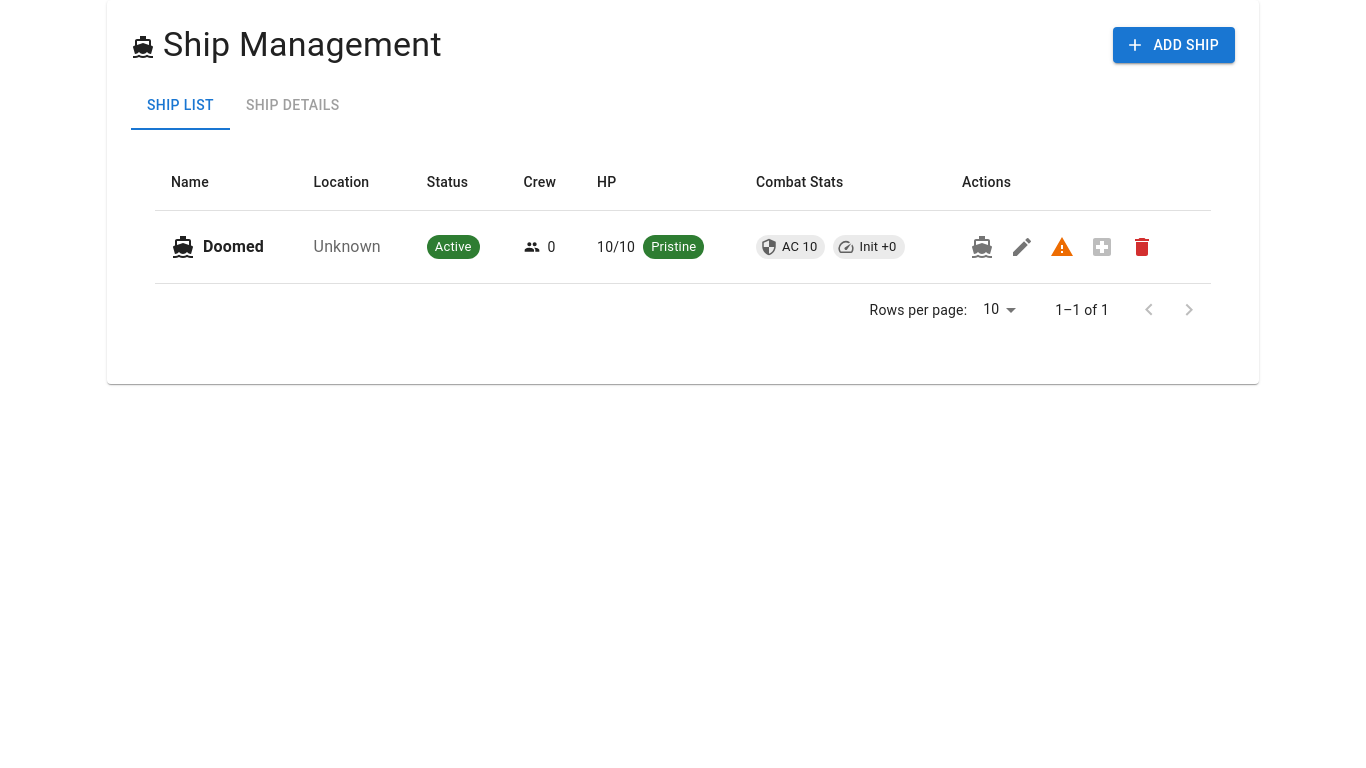
it: ShipManagement › deleting › asks for confirmation, deletes and refreshes the list
Check: the text "Doomed" is shown, box [203, 235, 264, 259]
Click the button titled "Delete". click: (1142, 247)
box: [1122, 227, 1162, 267]
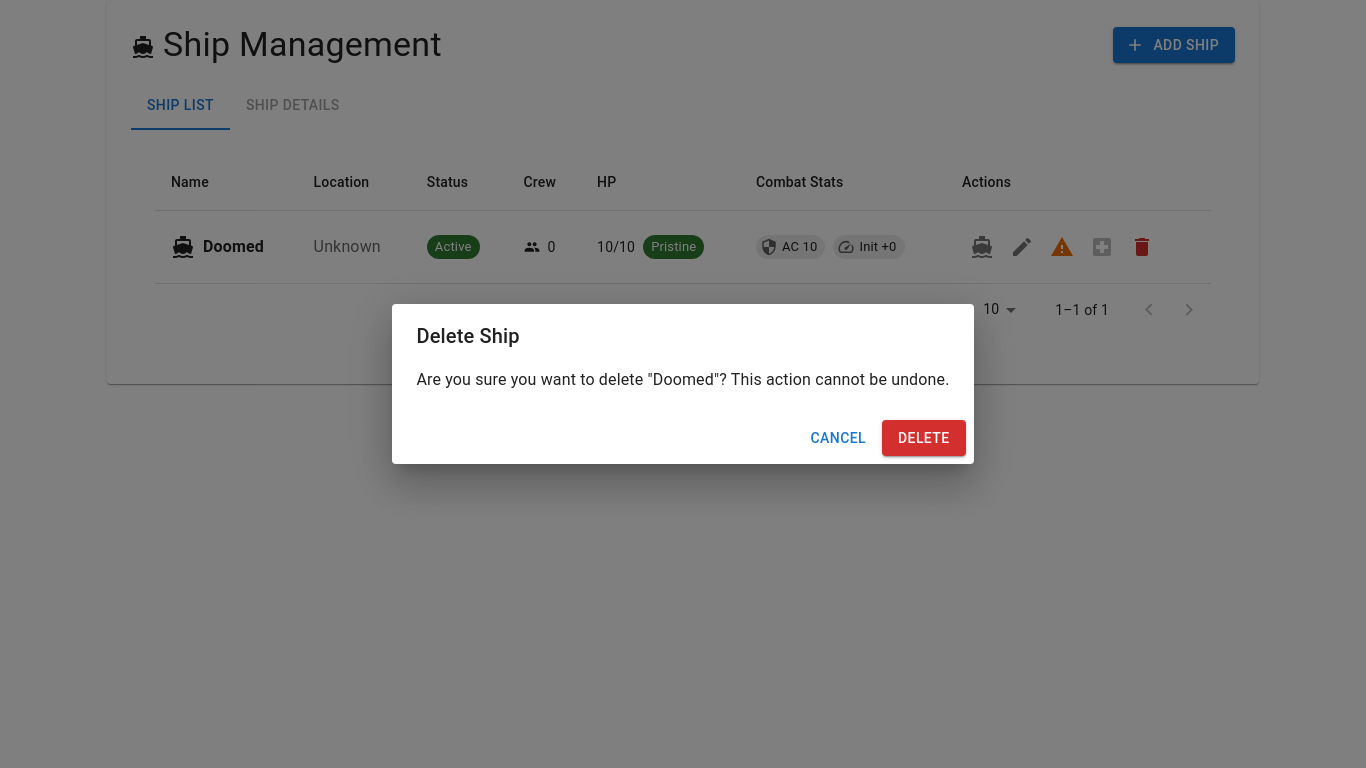
Check: the text "Are you sure you want to delete \"Doomed\"" is shown, box [416, 368, 950, 392]
Click the button "Delete". click: (924, 438)
box: [882, 420, 966, 456]
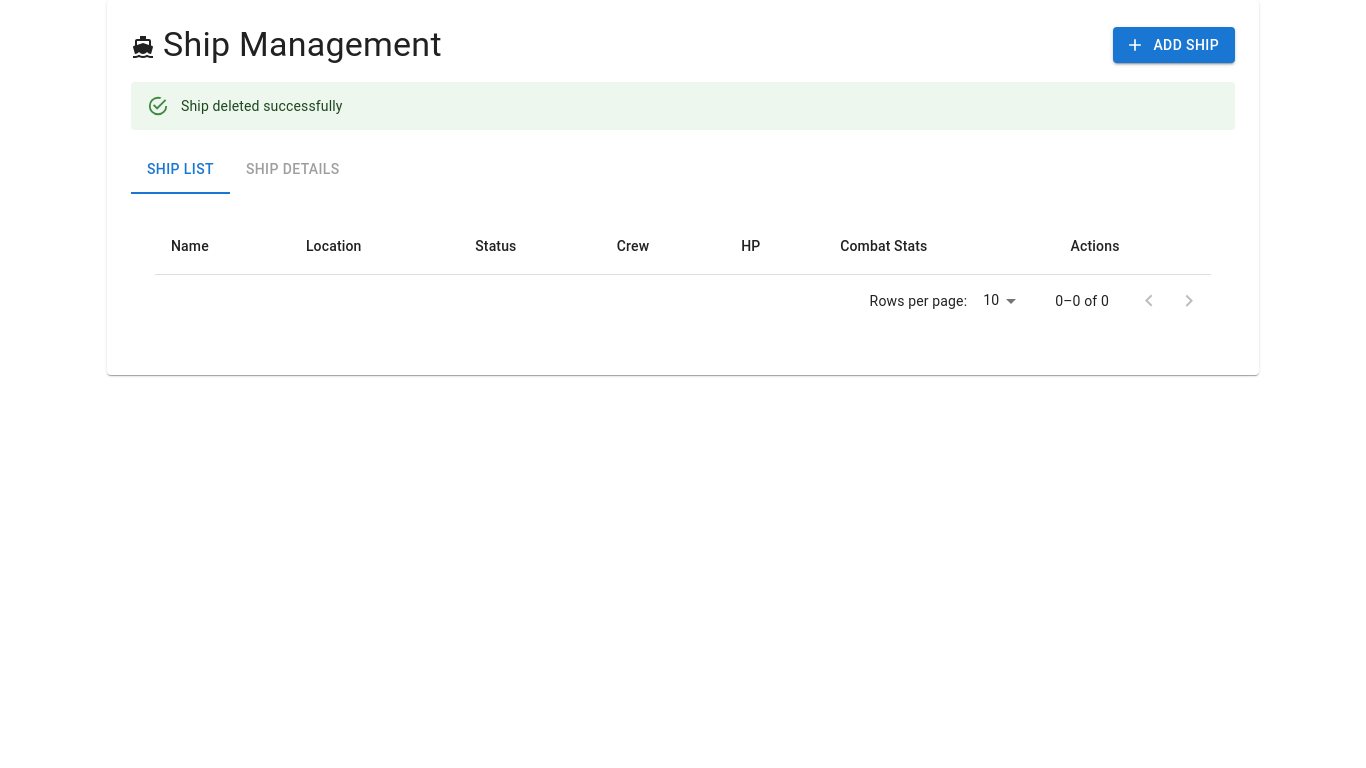
Check: the text "Ship deleted successfully" is shown, box [181, 98, 342, 114]
Check: the text "Doomed" is gone
